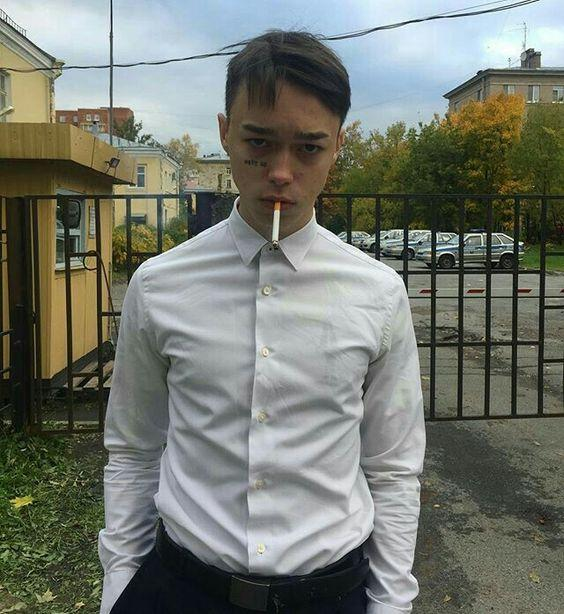cigarette: (272, 201, 281, 245)
